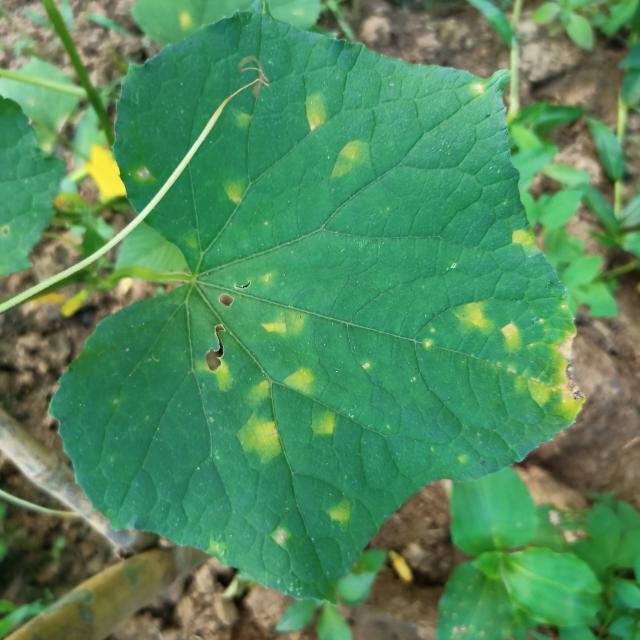disease_cucumber: (189, 263, 348, 469), (446, 292, 584, 428), (298, 85, 372, 193), (306, 491, 367, 538), (219, 171, 254, 217), (506, 222, 537, 262)
